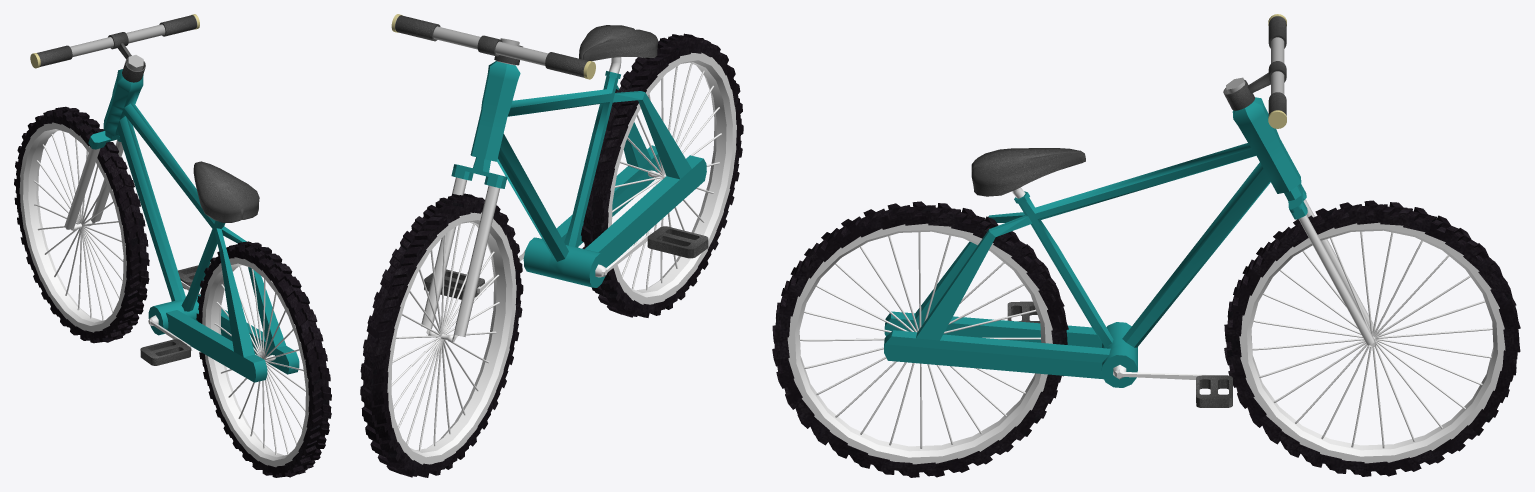
File: bike.FBX
The picture shows the model from 3 angles, left to right: view 1: azimuth 30°, elevation 25°; view 2: azimuth 150°, elevation 25°; view 3: azimuth 270°, elevation 25°; orthographic projection. The views are drawn at different scales.
Parts seen in each view (by area): view 1: BikeBody, Cylinder001, Box036, Box079, Cylinder009, seat, Rectangle002, Cylinder003, 对象002, Box002, Tube004, Tube003 (+2 smaller); view 2: BikeBody, Cylinder001, Box079, Cylinder009, Box036, seat, 对象002, Rectangle002, Cylinder003, 对象001, 对象003, Tube004 (+4 smaller); view 3: BikeBody, Cylinder001, Box079, Cylinder009, Box036, seat, 对象001, Rectangle003, Box002.
Part boxes in pixels (box(x1,y1,x2,y2)): BikeBody: box(103, 69, 299, 382); Cylinder001: box(19, 122, 126, 332); Box036: box(196, 241, 331, 477); Box079: box(14, 106, 149, 343); Cylinder009: box(202, 257, 309, 467); seat: box(193, 161, 259, 222); Rectangle002: box(140, 339, 190, 365); Cylinder003: box(70, 16, 197, 57); 对象002: box(64, 147, 100, 229); Box002: box(108, 32, 145, 82); Tube004: box(159, 15, 196, 36); Tube003: box(36, 45, 72, 66); BikeBody: box(470, 61, 706, 287); Cylinder001: box(387, 212, 516, 464); Box079: box(360, 193, 523, 477); Cylinder009: box(608, 52, 736, 304); Box036: box(581, 33, 743, 317); seat: box(579, 25, 658, 61); 对象002: box(452, 185, 500, 340); Rectangle002: box(647, 226, 708, 258); Cylinder003: box(395, 17, 548, 65); 对象001: box(421, 177, 466, 335); 对象003: box(451, 157, 507, 188); Tube004: box(395, 15, 440, 41); BikeBody: box(884, 97, 1301, 387); Cylinder001: box(1239, 222, 1505, 463); Box079: box(1224, 200, 1520, 476); Cylinder009: box(787, 223, 1052, 464); Box036: box(772, 201, 1068, 477); seat: box(971, 148, 1085, 196); 对象001: box(1298, 215, 1376, 346); Rectangle003: box(1196, 375, 1232, 407); Box002: box(1223, 61, 1286, 110).
Bounding box in the file's own units: 2.31 × 4.5 × 7.49.
Materials: 6 (2 with a texture image).
